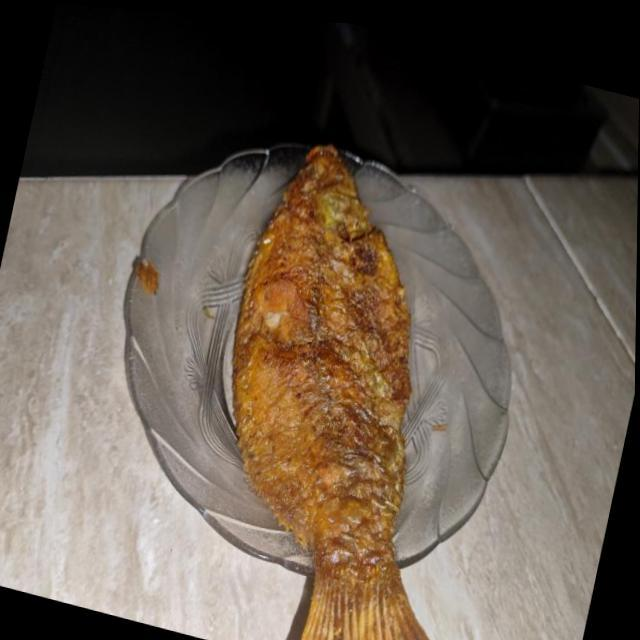ikan_mujair: (233, 145, 428, 640)
